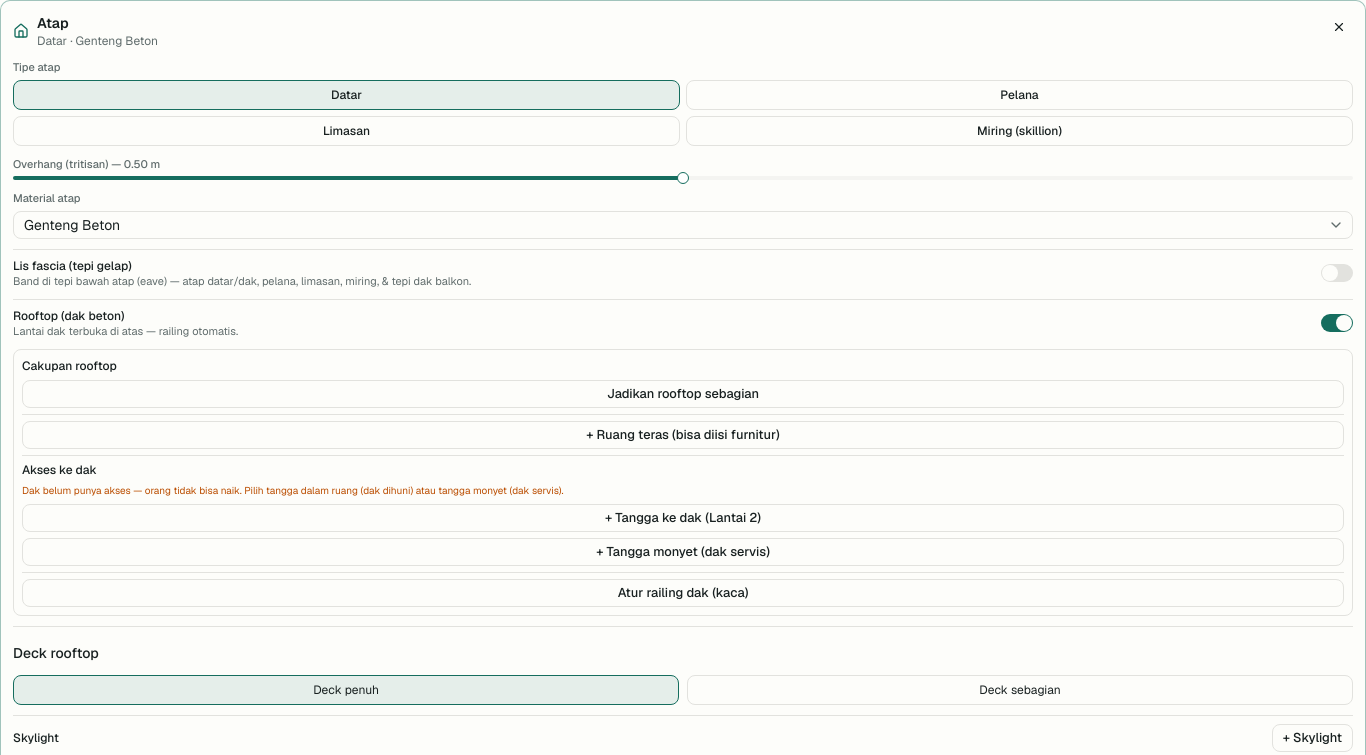
Test: RoofInspectorCard — akses dak › + Tangga monyet menulis rooftopAccess dan membuka picker sisi
The image size is (1366, 755).
Click the button with test id "rooftop-access-add-ladder". click: (683, 552)
box: [22,538,1344,566]
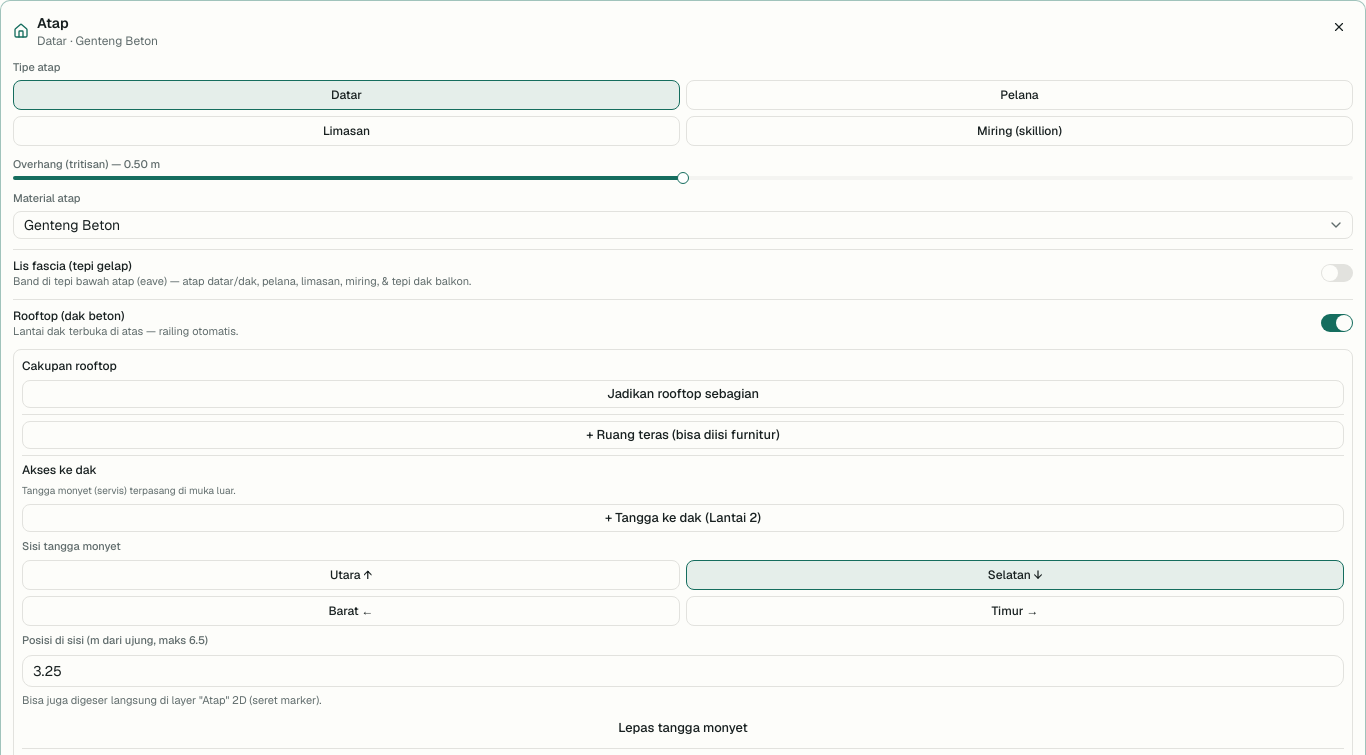
Check: the element named "Sisi tangga monyet" is shown, box [22,560,1344,626]
